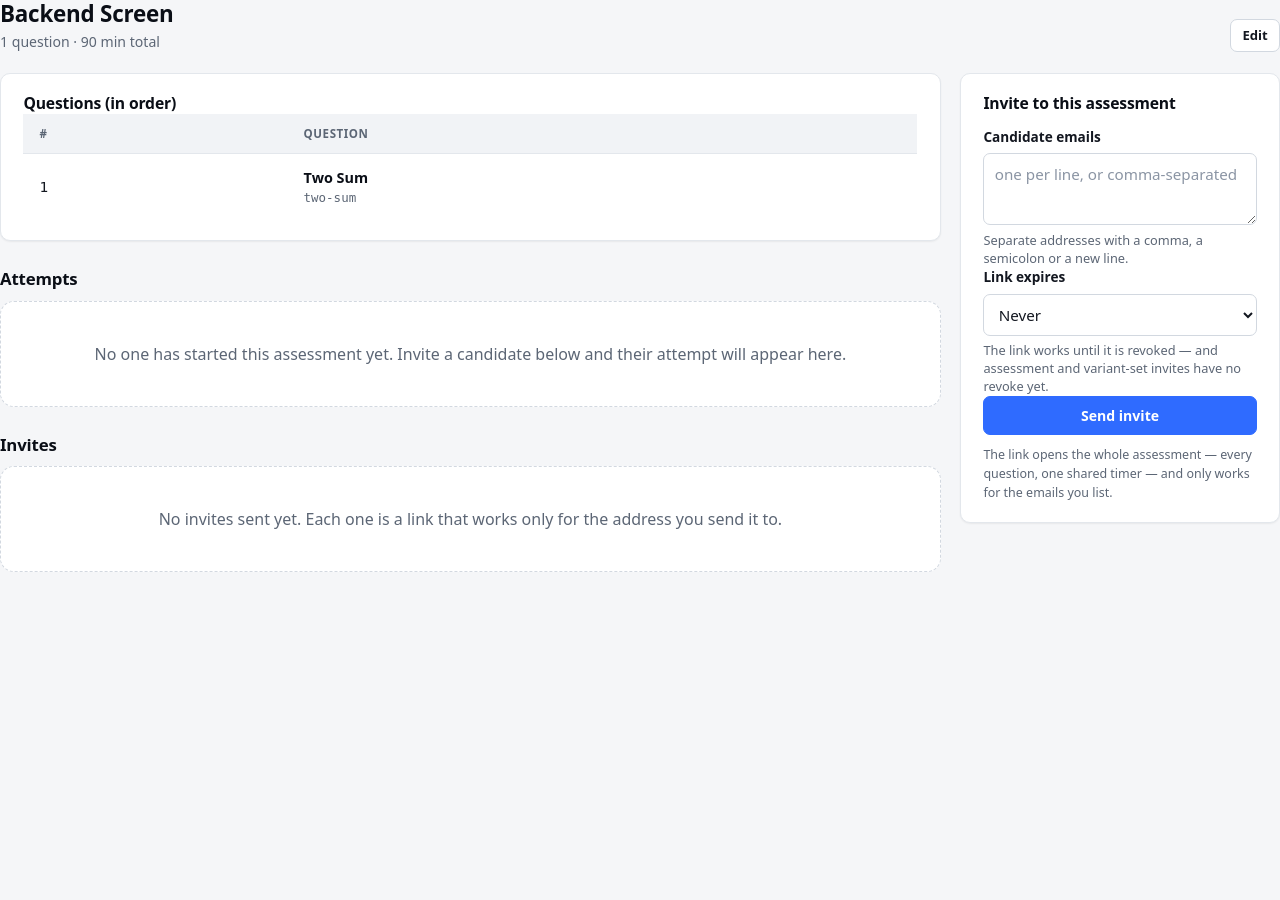
Test case: AssessmentDetailPage — edit settings › keeps the dialog open and shows the API error when the save fails
The width and height of the screenshot is (1280, 900).
Expected: the heading "Backend Screen" is shown, [0,0,174,28]
Step 1. Click the button "Edit" → (1255, 36), box [1230,19,1279,52]
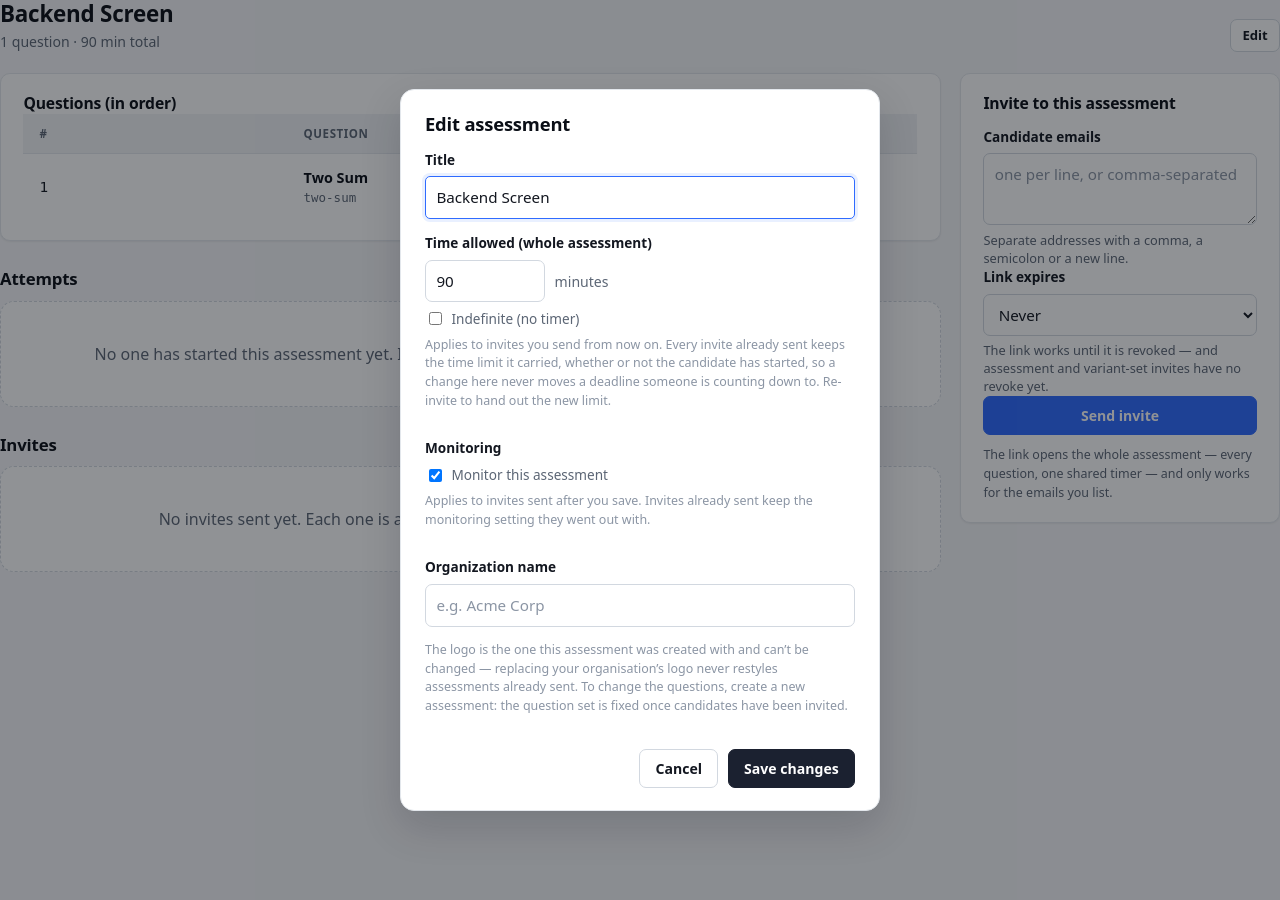
Step 2. Click the button "Save changes" → (791, 768), box [728,749,855,788]
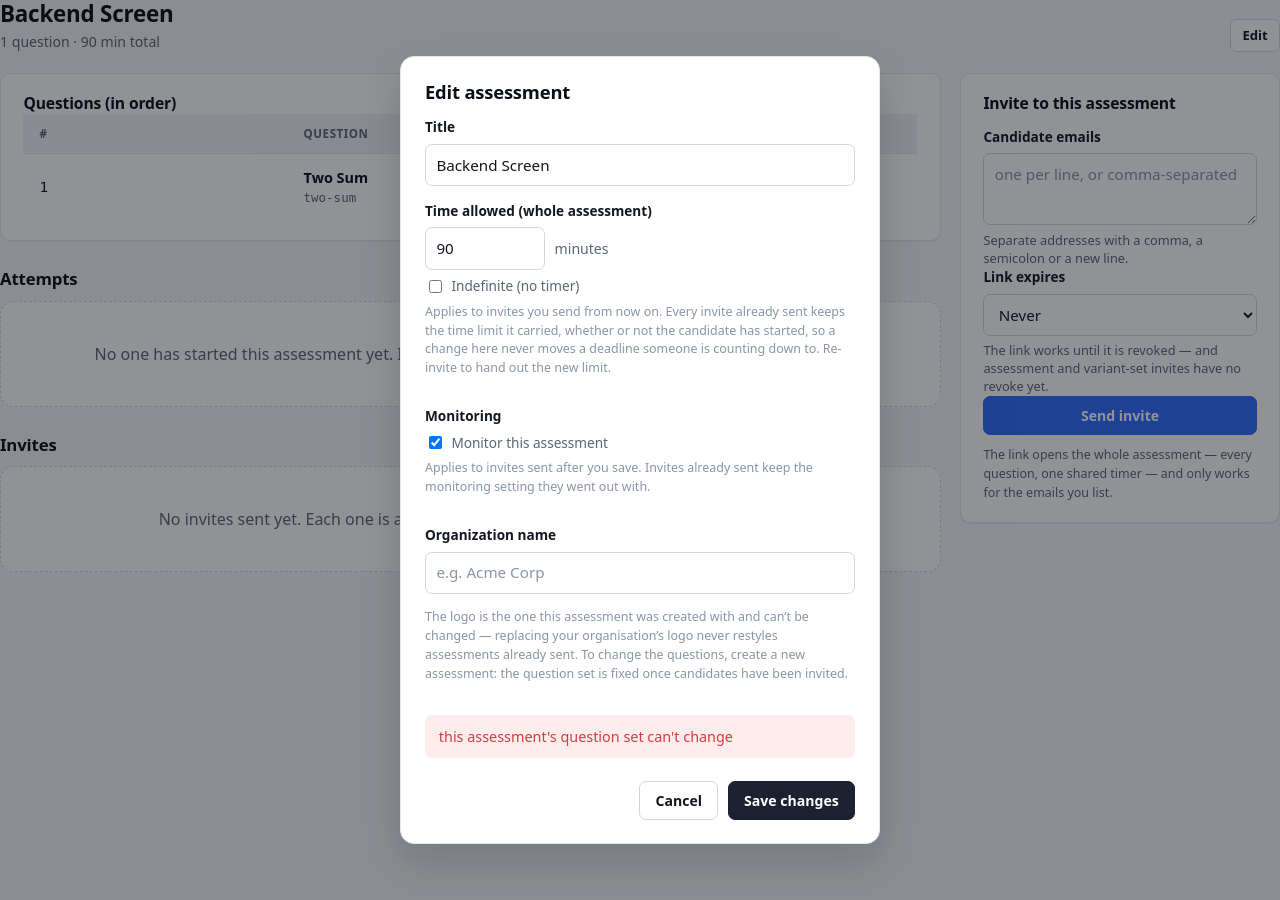
Expected: the heading "Backend Screen" is shown, [0,0,174,28]
Expected: the dialog is shown, [400,56,880,844]
Expected: the message shows "question set can't change", [439,727,733,746]
